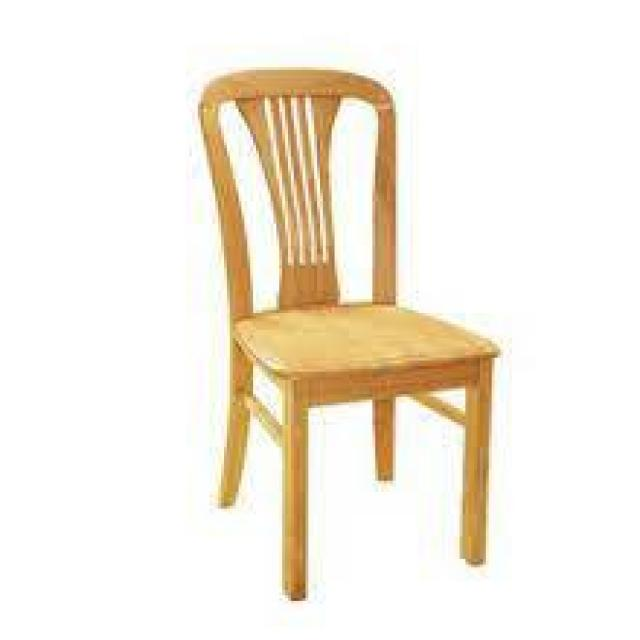chair: (122, 42, 559, 601)
